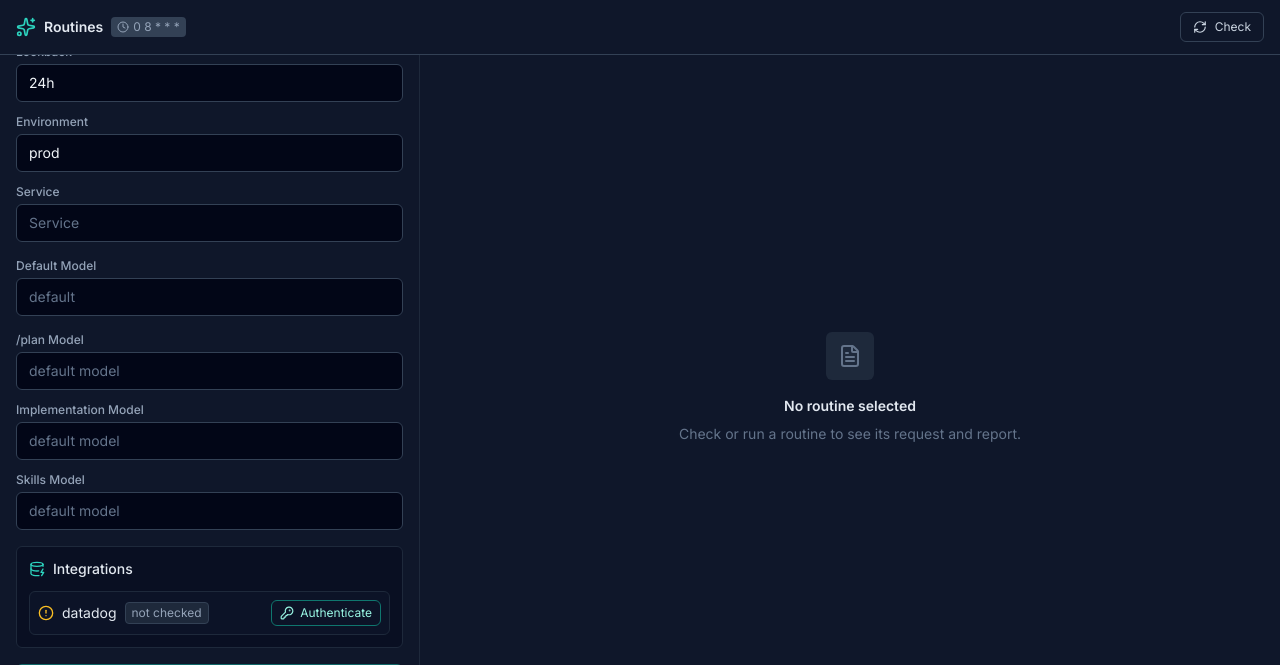
Test: RoutineView › opens Datadog MCP authentication from the integration panel
(page scrolled)
What coordinates should you click on to do the following:
click the button "Authenticate"
I would click on:
 (326, 613)
Its box is [271,600,381,626].
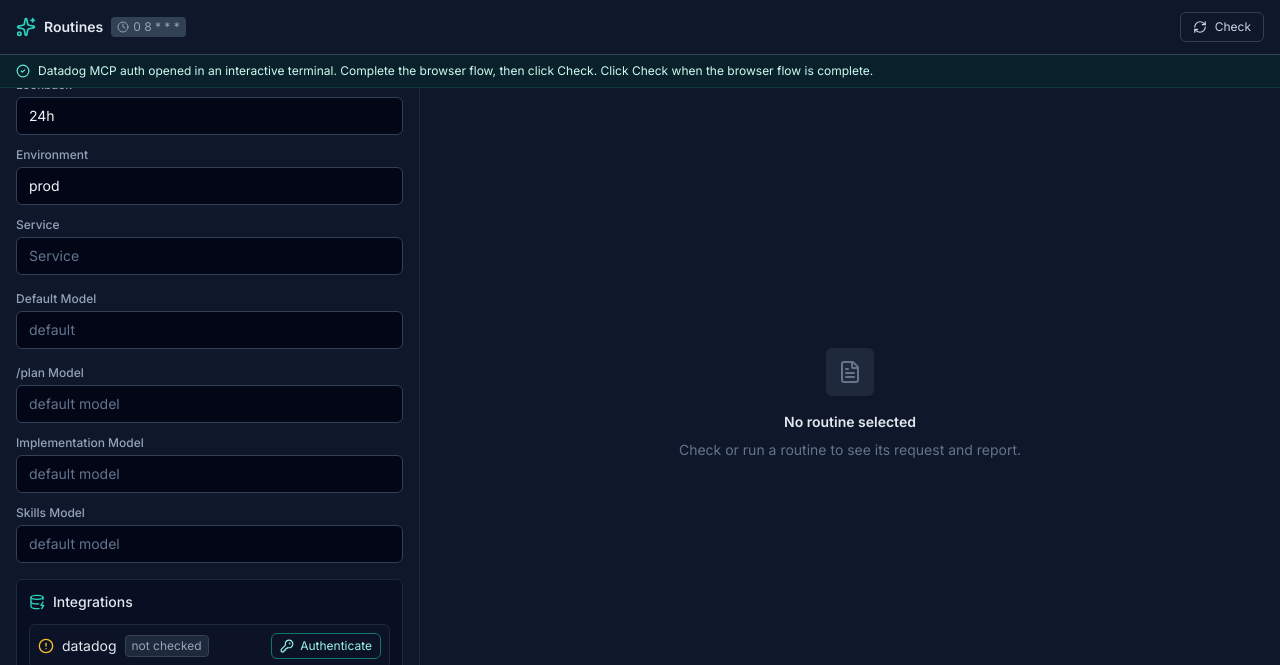
Now the text "auth opened in an interactive terminal" is shown, box [38,63,873,78]
